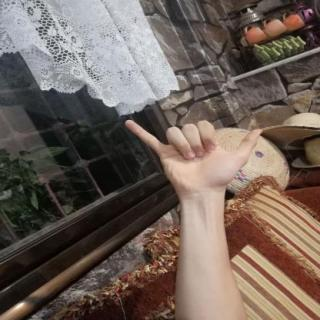YA: (114, 113, 276, 202)
